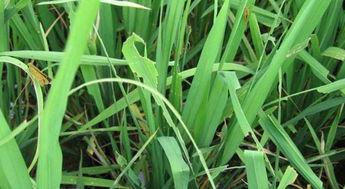pest: (27, 63, 49, 85), (240, 7, 250, 24)
